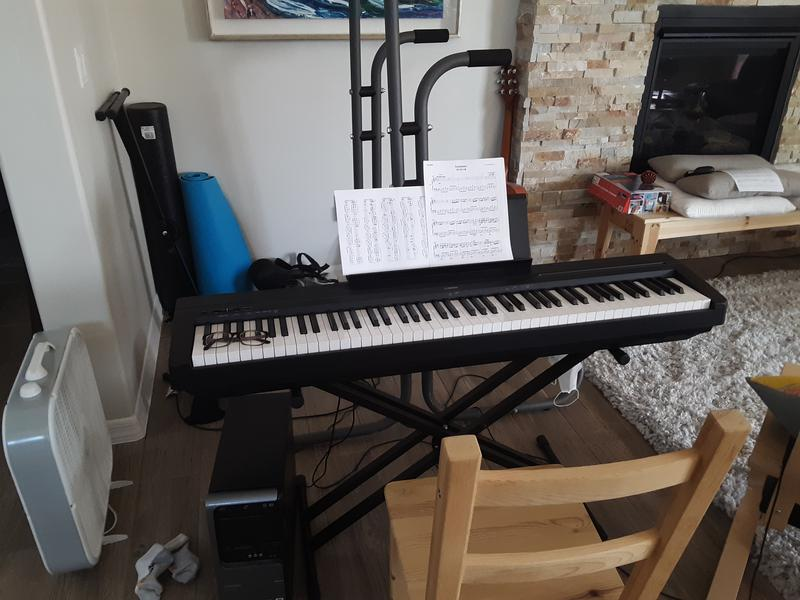glasses: (201, 330, 273, 350)
